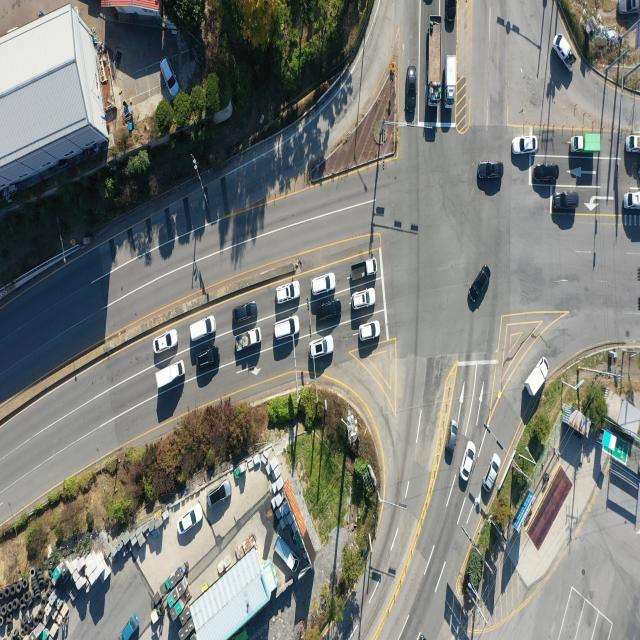car: (178, 504, 202, 538), (161, 57, 180, 99), (189, 315, 217, 343), (472, 266, 492, 301), (274, 316, 300, 341), (460, 442, 476, 481), (208, 482, 231, 508), (408, 66, 419, 120), (485, 456, 501, 493), (197, 348, 222, 371), (444, 419, 457, 463), (310, 273, 334, 296), (312, 337, 336, 360), (277, 281, 301, 304), (156, 331, 179, 355), (320, 299, 344, 321), (232, 300, 256, 322), (512, 136, 538, 156), (553, 191, 579, 211), (478, 160, 504, 180), (351, 288, 375, 308), (358, 320, 380, 340), (364, 319, 386, 339), (618, 0, 640, 16), (446, 0, 457, 32), (623, 192, 640, 211), (424, 0, 432, 6)
medium_truck: (427, 18, 442, 106)
small_truck: (274, 533, 299, 574), (526, 359, 549, 400), (553, 34, 576, 74), (158, 361, 186, 392), (233, 328, 260, 354), (444, 55, 456, 108), (350, 258, 376, 282), (572, 133, 600, 154), (120, 613, 139, 640), (627, 136, 640, 156)
